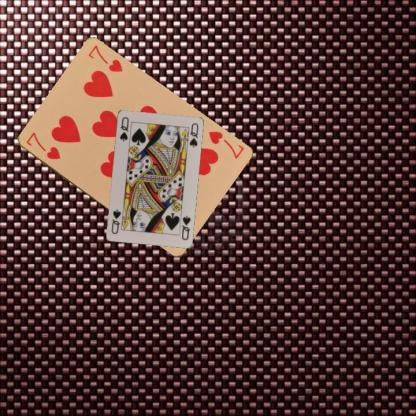7h: (23, 129, 62, 162), (205, 128, 245, 160)
Qs: (179, 213, 192, 241), (117, 115, 130, 142)
